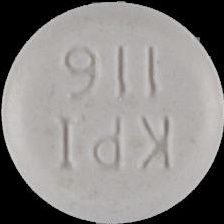54868-1750: (0, 0, 224, 224)
